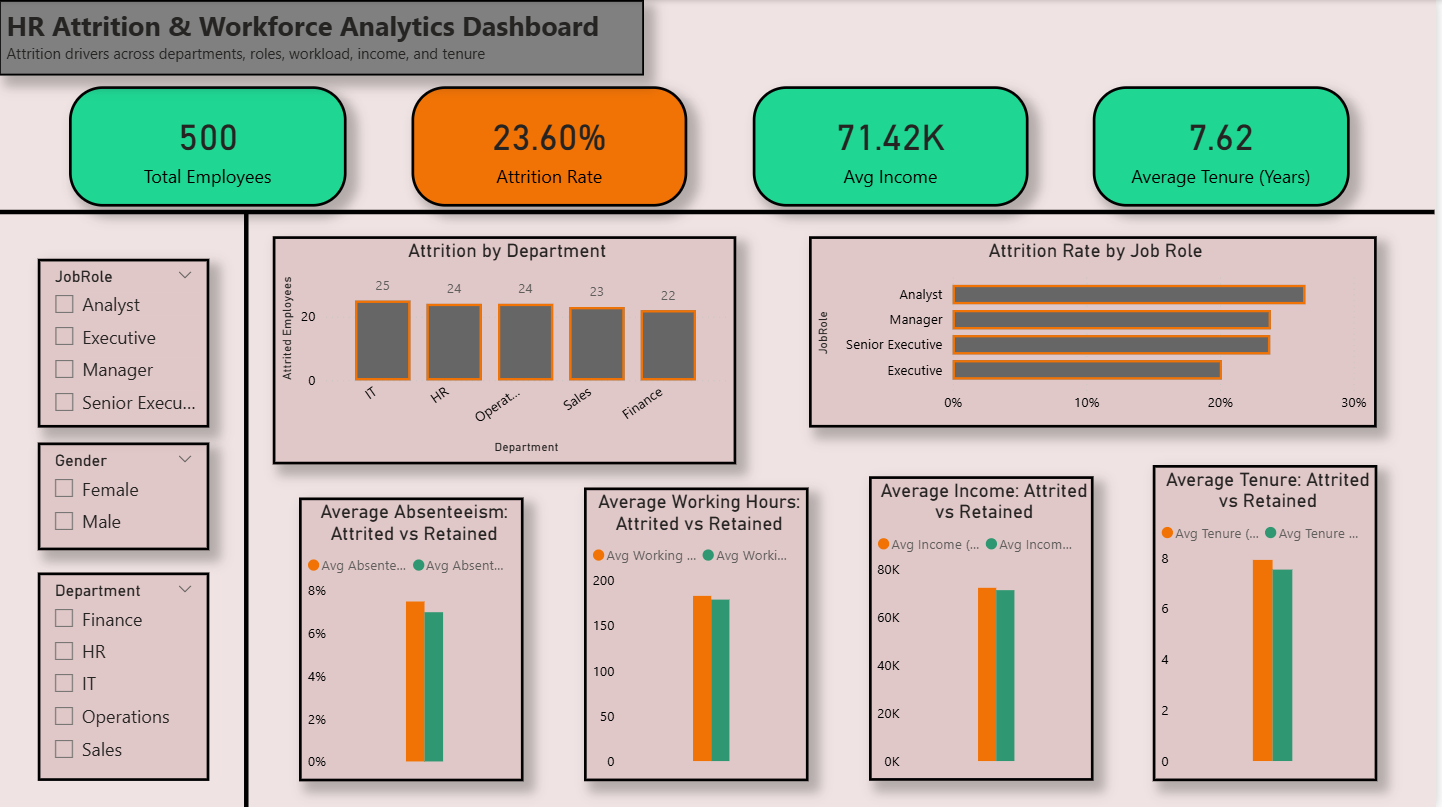

The page's visual inventory and layout, read from the dashboard file:
{"tool":"powerbi","page":{"name":"Page 1","canvas":[1280,720],"ordinal":0},"visuals":[{"type":"card","fields":{"Values":["employees.Avg Tenure"]},"box":[974.3,77.1,228.6,107.1],"z":0},{"type":"card","fields":{"Values":["employees.Avg Income"]},"box":[671.4,77.1,245.7,107.1],"z":1000},{"type":"card","fields":{"Values":["employees.Attrition Rate"]},"box":[367.1,77.1,245.7,107.1],"z":2000},{"type":"card","fields":{"Values":["employees.Total Employees"]},"box":[62.9,77.1,247.1,107.1],"z":3000},{"type":"clusteredColumnChart","title":"Attrition by Department","fields":{"Category":["employees.Department"],"Y":["employees.Attrited Employees"]},"box":[244.3,210,412.9,202.9],"z":4000},{"type":"barChart","title":"Attrition Rate by Job Role","fields":{"Category":["employees.JobRole"],"Y":["employees.Attrition Rate"]},"box":[721.4,210,505.7,170],"z":5000},{"type":"clusteredColumnChart","title":"Average Working Hours: Attrited vs Retained ","fields":{"Y":["employees.Avg Working Hours (Attrited)","employees.Avg Working Hours (Retained)"]},"box":[521.4,434.3,200,261.4],"z":6000},{"type":"clusteredColumnChart","title":"Average Absenteeism: Attrited vs Retained ","fields":{"Y":["employees.Avg Absenteeism (Attrited)","employees.Avg Absenteeism (Retained)"]},"box":[267.1,442.9,200,252.9],"z":7000},{"type":"slicer","fields":{"Values":["employees.Department"]},"box":[34.3,510,152.9,185.7],"z":8000},{"type":"slicer","fields":{"Values":["employees.Gender"]},"box":[34.3,394.3,152.9,95.7],"z":9000},{"type":"slicer","fields":{"Values":["employees.JobRole"]},"box":[34.3,230,152.9,150],"z":10000},{"type":"clusteredColumnChart","title":"Average Income: Attrited vs Retained","fields":{"Y":["employees.Avg Income (Attrited)","employees.Avg Income (Retained)"]},"box":[774.3,424.3,200,271.4],"z":11000},{"type":"clusteredColumnChart","title":"Average Tenure: Attrited vs Retained ","fields":{"Y":["employees.Avg Tenure (Attrited)","employees.Avg Tenure (Retained)"]},"box":[1027.1,414.3,200,281.4],"z":12000},{"type":"textbox","box":[0,0,574.3,67.1],"z":13000},{"type":"shape","box":[0,168.6,1278.6,41.4],"z":14000},{"type":"shape","box":[195.7,190,48.6,530],"z":15000}]}

Visuals, with their boxes in screenshot pixels (x1, y1, x2, y2), scaled from the page's 1280x720 canvas onto the 1442x807 screenshot:
card - employees.Avg Tenure: (left=1098, top=86, right=1355, bottom=206)
card - employees.Avg Income: (left=756, top=86, right=1033, bottom=206)
card - employees.Attrition Rate: (left=414, top=86, right=690, bottom=206)
card - employees.Total Employees: (left=71, top=86, right=349, bottom=206)
"Attrition by Department" clusteredColumnChart: (left=275, top=235, right=740, bottom=463)
"Attrition Rate by Job Role" barChart: (left=813, top=235, right=1382, bottom=426)
"Average Working Hours: Attrited vs Retained " clusteredColumnChart: (left=587, top=487, right=813, bottom=780)
"Average Absenteeism: Attrited vs Retained " clusteredColumnChart: (left=301, top=496, right=526, bottom=780)
slicer - employees.Department: (left=39, top=572, right=211, bottom=780)
slicer - employees.Gender: (left=39, top=442, right=211, bottom=549)
slicer - employees.JobRole: (left=39, top=258, right=211, bottom=426)
"Average Income: Attrited vs Retained" clusteredColumnChart: (left=872, top=476, right=1098, bottom=780)
"Average Tenure: Attrited vs Retained " clusteredColumnChart: (left=1157, top=464, right=1382, bottom=780)
textbox: (left=0, top=0, right=647, bottom=75)
shape: (left=0, top=189, right=1440, bottom=235)
shape: (left=220, top=213, right=275, bottom=806)
